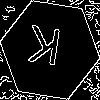K: (25, 25, 63, 75)
